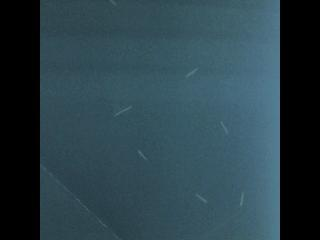crack: (40, 162, 120, 240)
scratch: (108, 101, 136, 122), (189, 188, 211, 206), (234, 190, 252, 210), (215, 118, 229, 138), (184, 65, 201, 80), (138, 148, 152, 164), (105, 0, 124, 10)
